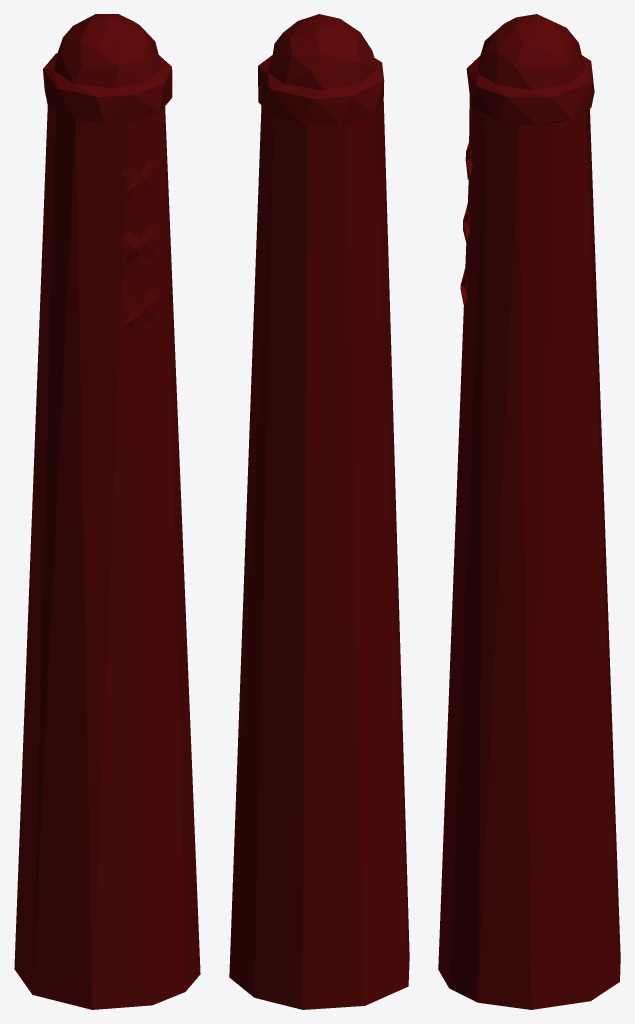
File: amsterdammertjeTEXTURED.fbx
3 views of the same model, side by side, from view 1: azimuth 30°, elevation 25°; view 2: azimuth 150°, elevation 25°; view 3: azimuth 270°, elevation 25° (orthographic).
Visible parts, largest first — view 1: Plane.000; view 2: Plane.000; view 3: Plane.000.
Boxes of the visible parts, x1,y1,x2,y2 form: Plane.000: (14,14,200,1009); Plane.000: (229,14,409,1009); Plane.000: (438,14,620,1009).
Bounding box in the file's own units: 20.06 × 113 × 19.59.
